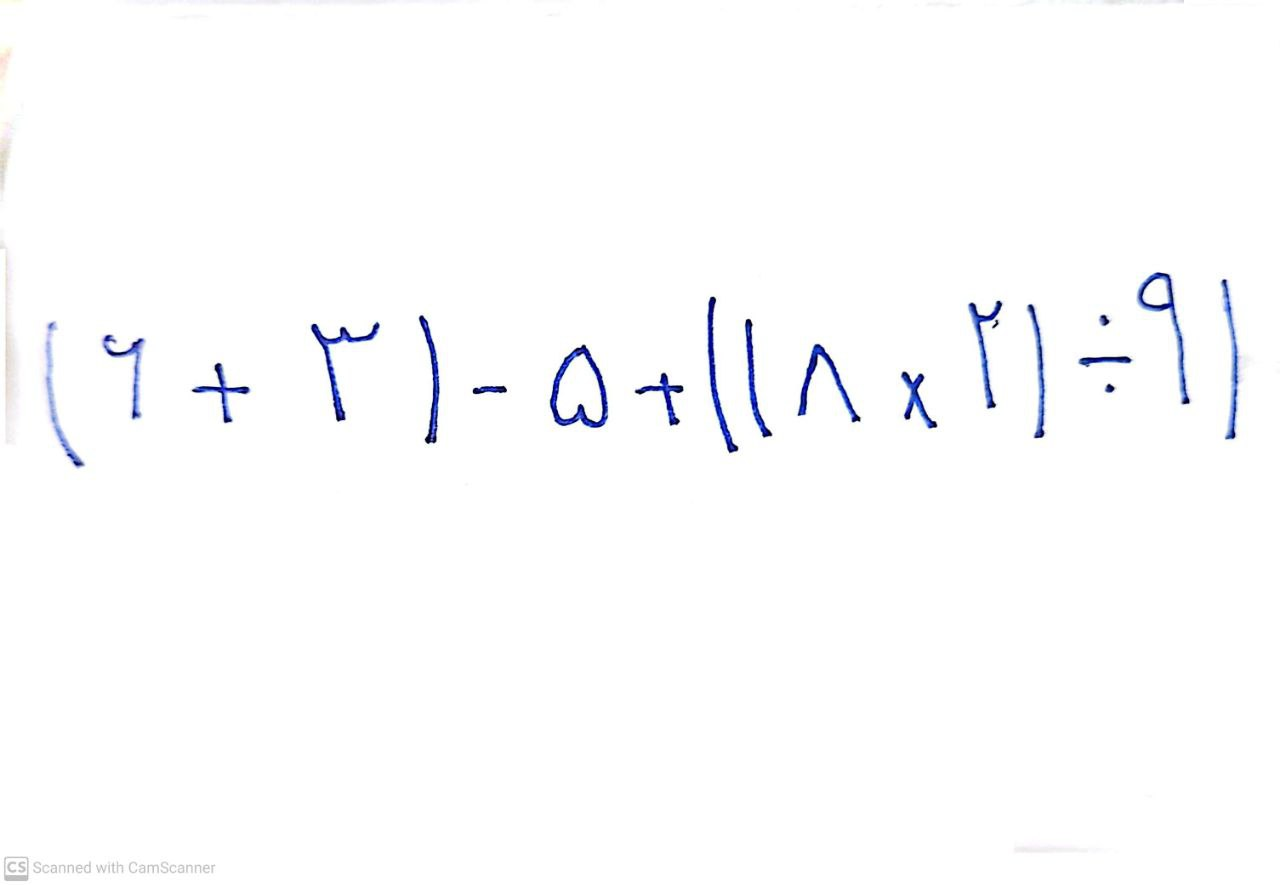character: (1138, 271, 1195, 405), (310, 324, 381, 420), (42, 321, 84, 468), (705, 296, 738, 453), (550, 344, 608, 429), (797, 344, 860, 422), (967, 302, 1007, 408), (1079, 315, 1128, 392), (101, 333, 143, 422), (415, 316, 442, 445), (189, 363, 248, 422), (742, 319, 770, 437), (1026, 305, 1048, 439), (1220, 279, 1237, 439), (634, 370, 682, 426), (899, 370, 936, 428), (471, 383, 507, 395)
